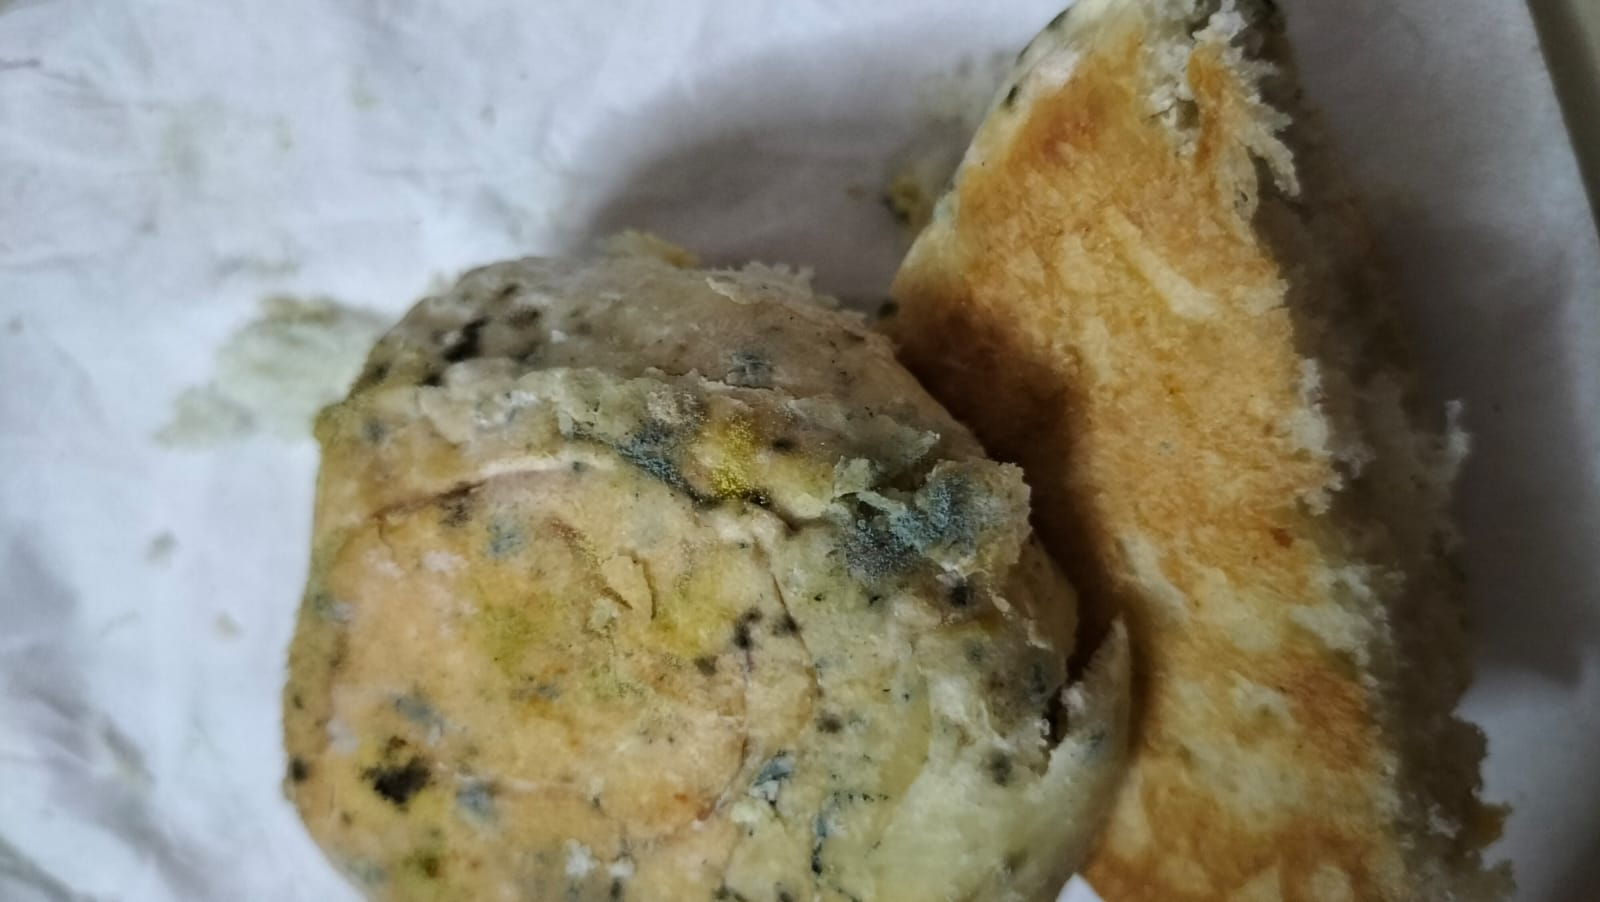mold_bread: (823, 425, 985, 606), (973, 646, 1079, 792), (610, 405, 715, 489), (411, 313, 490, 398), (721, 594, 804, 671), (362, 745, 438, 814), (752, 740, 793, 824), (726, 344, 784, 390), (482, 516, 527, 567), (277, 747, 319, 792), (362, 420, 391, 450)
